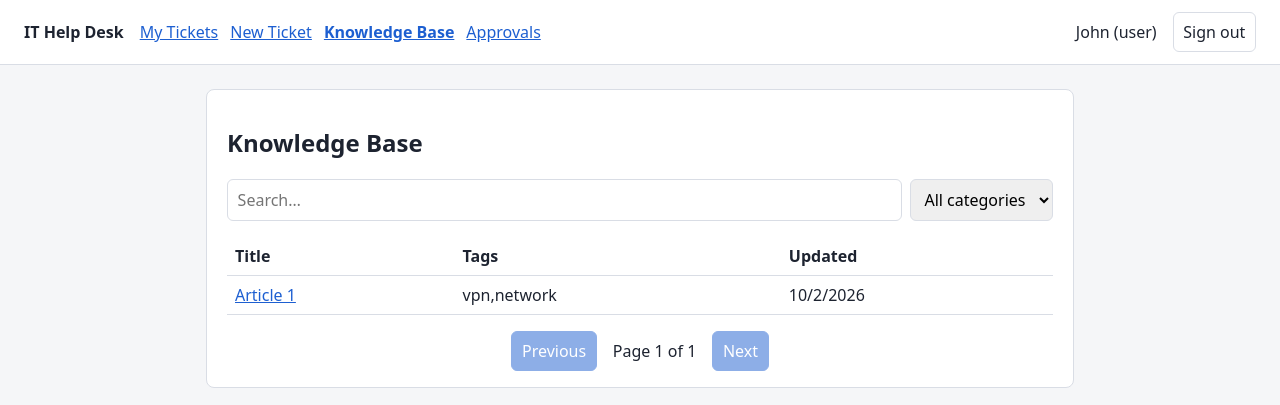
Test case: knowledge base › searches and shows the empty state
The width and height of the screenshot is (1280, 405).
Type "zzz" into the field named "Search articles" at (564, 200), box [227,179,902,221]
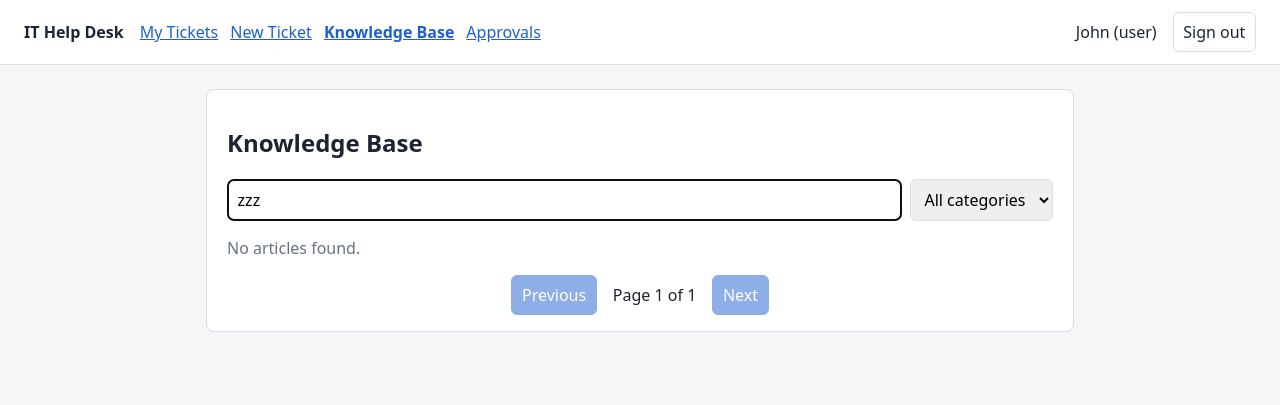
Now the text "No articles found." is shown, box [227,237,360,259]
